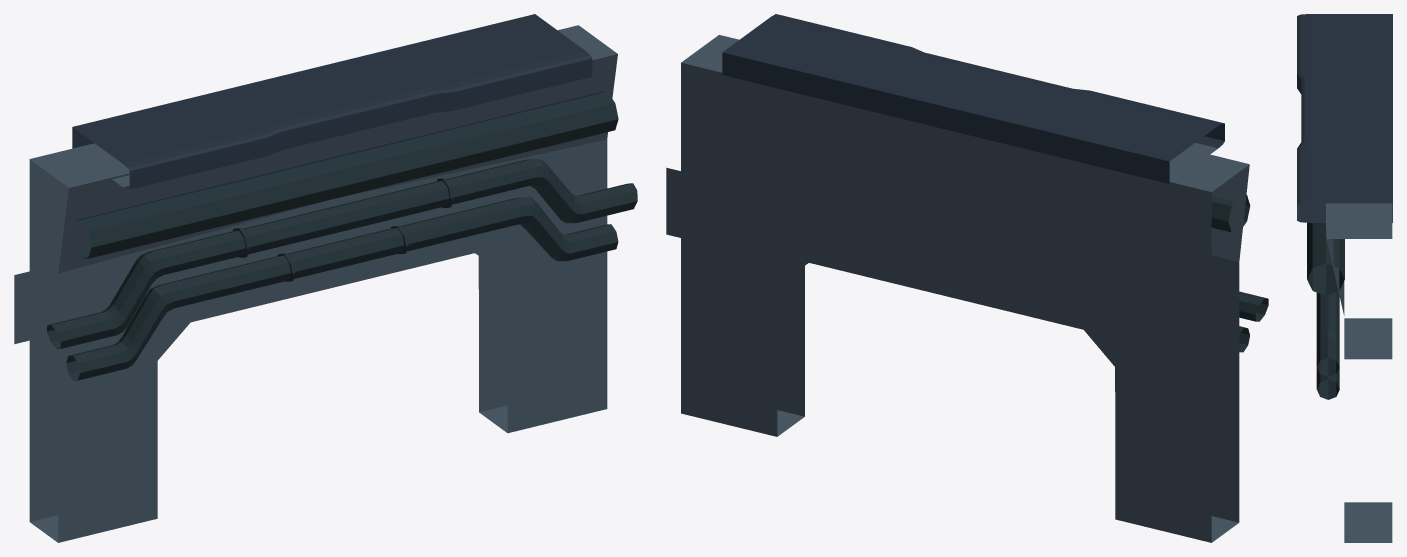
File: SM_wall_middle_door.fbx
3 renders of one model, left to right at view 1: azimuth 30°, elevation 25°; view 2: azimuth 150°, elevation 25°; view 3: azimuth 270°, elevation 25°, orthographic. The views are drawn at different scales.
Visible parts, largest first — view 1: Wall - MiddleDoor; view 2: Wall - MiddleDoor; view 3: Wall - MiddleDoor.
Boxes of the visible parts, <box> form: Wall - MiddleDoor: <box>14,14,637,542</box>; Wall - MiddleDoor: <box>666,14,1268,542</box>; Wall - MiddleDoor: <box>1297,14,1392,542</box>.
Bounding box in the file's own units: 587 × 371 × 100.
